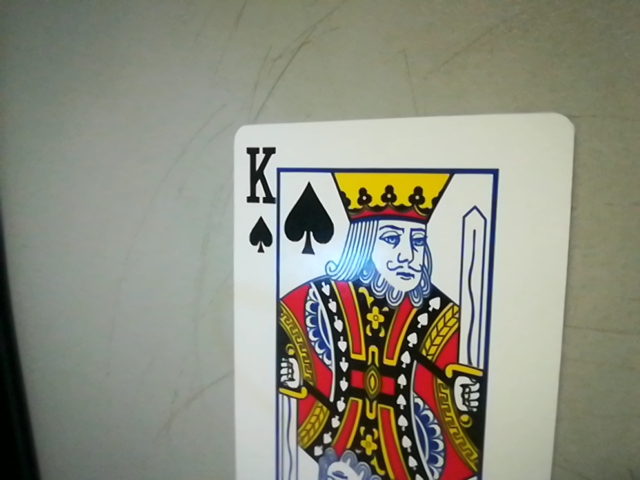ht k: (233, 135, 284, 258)
